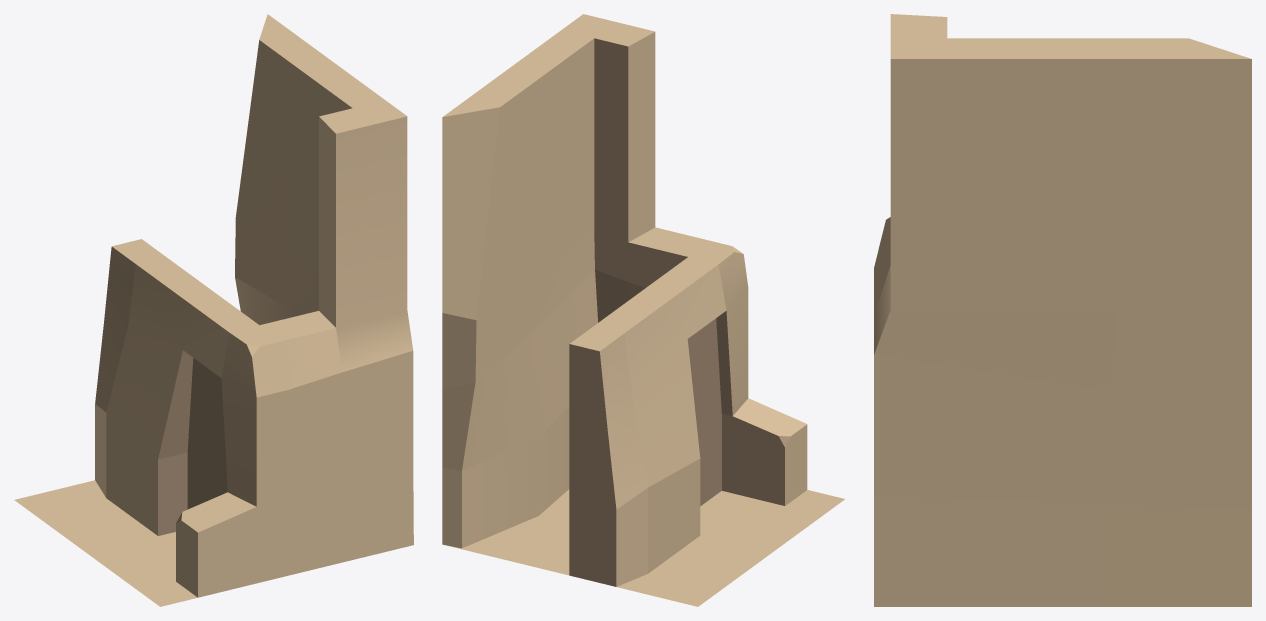
The model's file is WallSlidingDoor.fbx.
The picture shows the model from 3 angles, left to right: view 1: azimuth 30°, elevation 25°; view 2: azimuth 150°, elevation 25°; view 3: azimuth 270°, elevation 25°; orthographic projection. The views are drawn at different scales.
Visible parts, largest first — view 1: WallSlidingDoor, WallSlidingDoorDoor; view 2: WallSlidingDoor, WallSlidingDoorDoor; view 3: WallSlidingDoor.
Part boxes in pixels (x1=…): WallSlidingDoor: x1=14, y1=14, x2=413, y2=606; WallSlidingDoorDoor: x1=187, y1=358, x2=227, y2=509; WallSlidingDoor: x1=442, y1=14, x2=844, y2=606; WallSlidingDoorDoor: x1=687, y1=318, x2=721, y2=505; WallSlidingDoor: x1=874, y1=14, x2=1251, y2=606.
Size of the model in its own units: 5.01 by 8 by 5.
